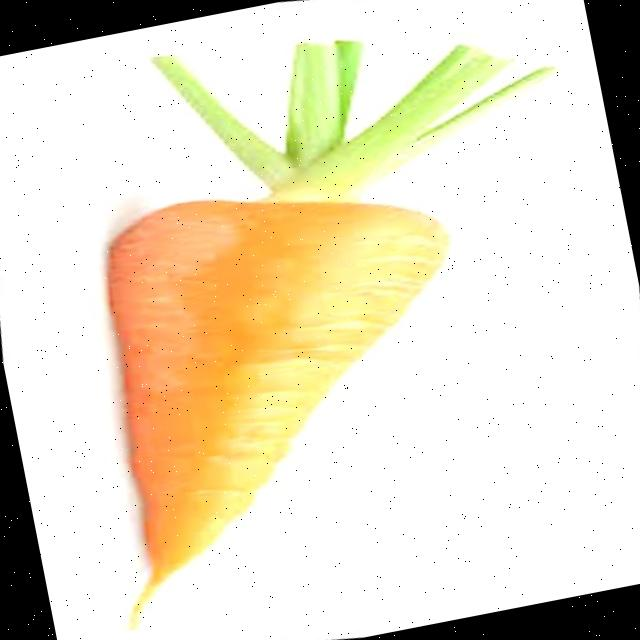carrot: (109, 41, 550, 623)
